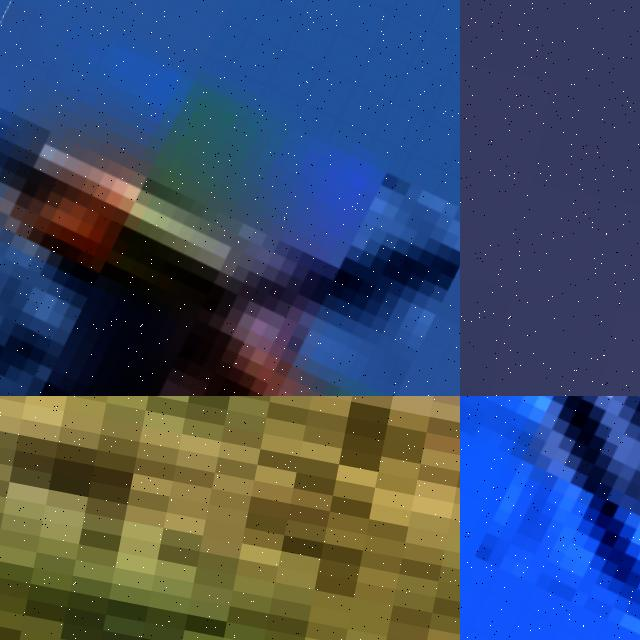drone: (0, 0, 460, 396), (460, 396, 640, 640)
